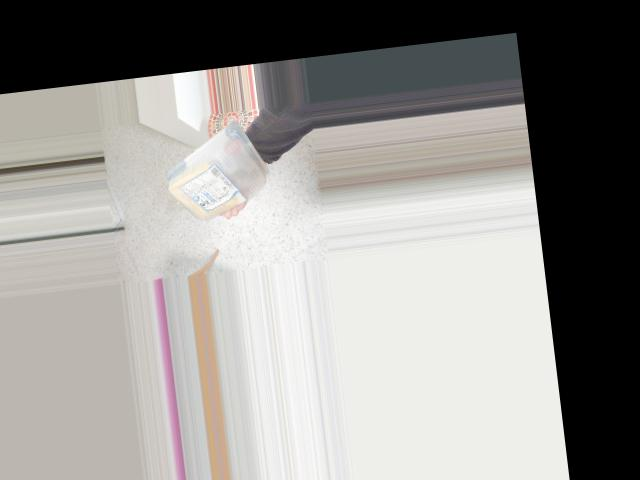cheese: (153, 111, 279, 233)
